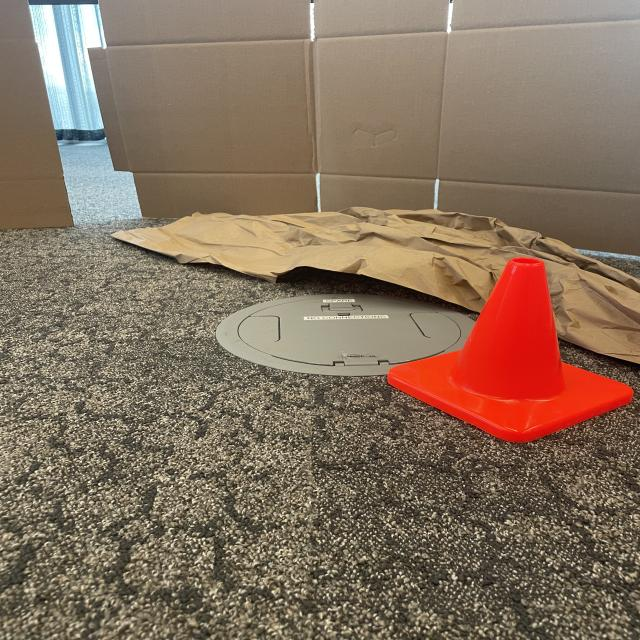Traffic Cone: (388, 257, 629, 439)
